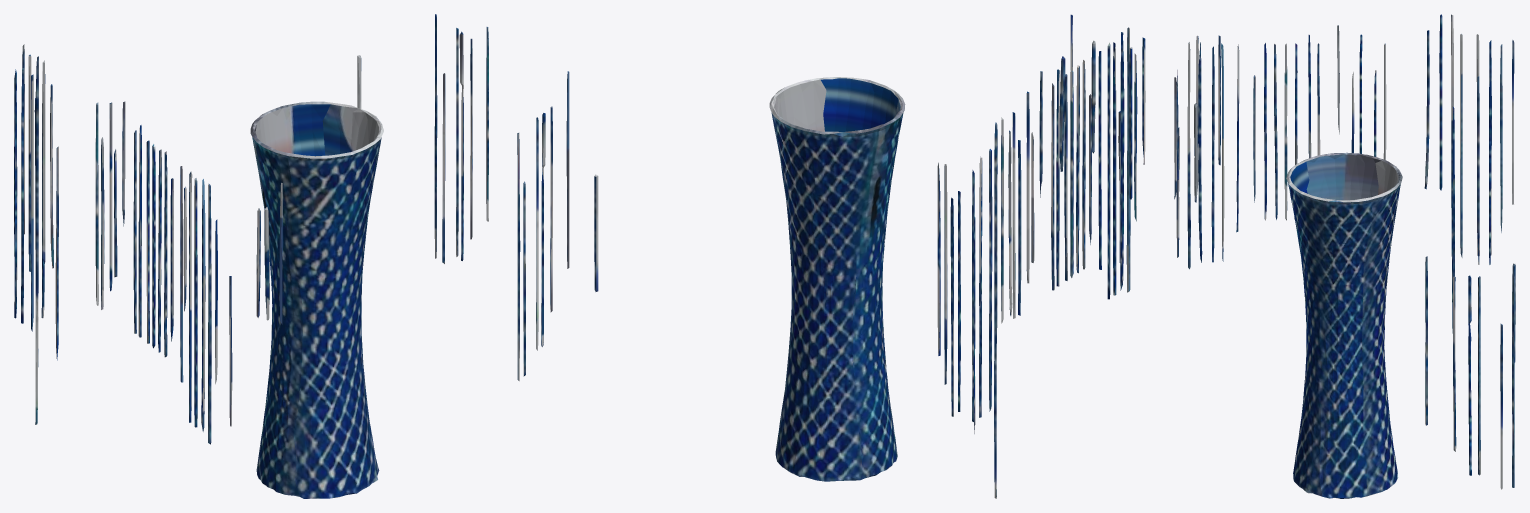
The model's file is torre_lusail.glb.
3 views of the same model, side by side, from view 1: azimuth 30°, elevation 25°; view 2: azimuth 150°, elevation 25°; view 3: azimuth 270°, elevation 25° (orthographic). The views are drawn at different scales.
Parts seen in each view (by area): view 1: tmpsss9f5lz.ply; view 2: tmpsss9f5lz.ply; view 3: tmpsss9f5lz.ply.
Part boxes in pixels (x1,y1,x2,y2): tmpsss9f5lz.ply: (14, 14, 488, 498); tmpsss9f5lz.ply: (517, 14, 1145, 498); tmpsss9f5lz.ply: (1174, 14, 1515, 498).
Size of the model in its own units: 1.95 by 1.82 by 1.51.
Materials: 1 (1 with a texture image).
